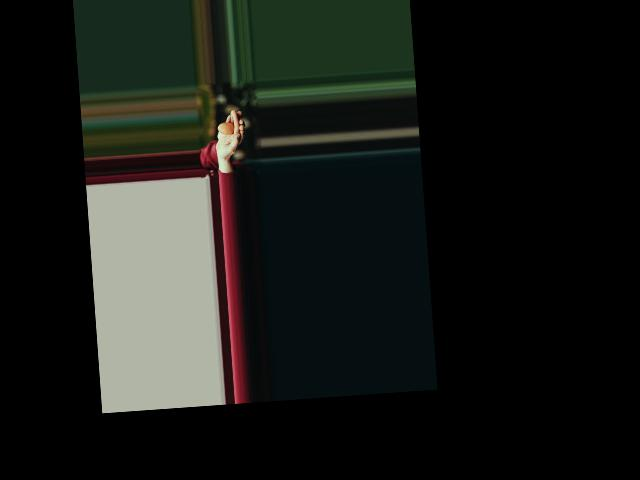egg: (217, 122, 234, 135)
